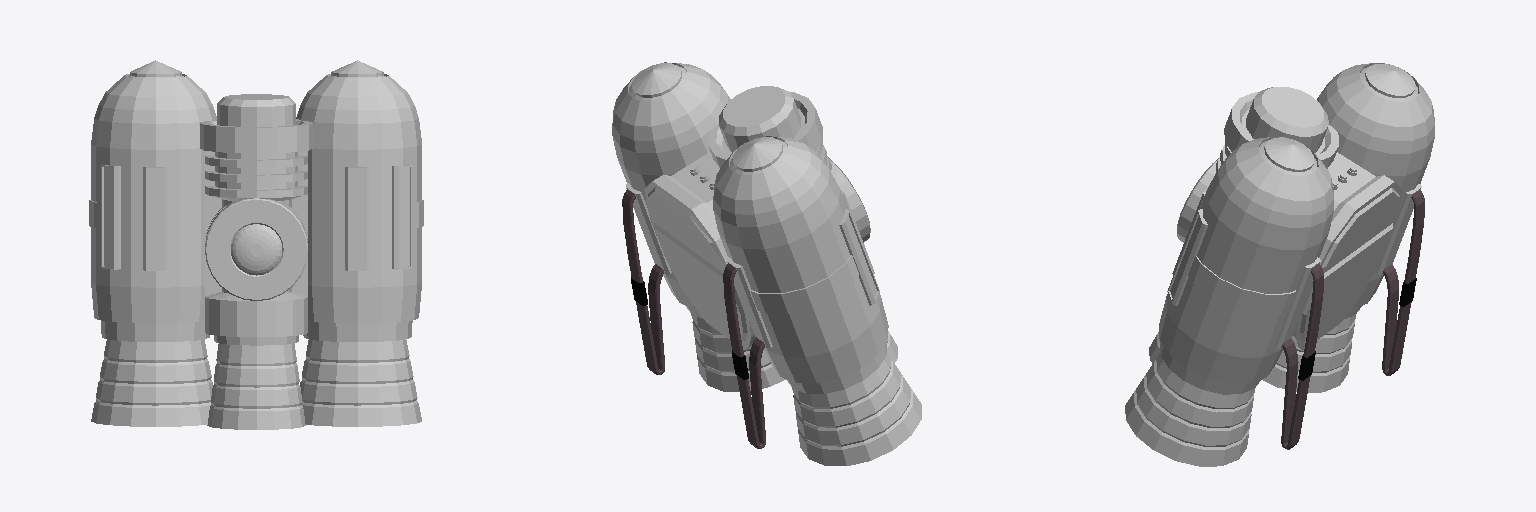
3 views of the same model, side by side, from view 1: azimuth 30°, elevation 25°; view 2: azimuth 150°, elevation 25°; view 3: azimuth 270°, elevation 25° (orthographic).
Parts seen in each view (by area): view 1: 4-T0N_Jetpack_4-T0N_Jetpack_Mesh; view 2: 4-T0N_Jetpack_4-T0N_Jetpack_Mesh; view 3: 4-T0N_Jetpack_4-T0N_Jetpack_Mesh.
Boxes of the visible parts, box(x1,y1,x2,y2) form: 4-T0N_Jetpack_4-T0N_Jetpack_Mesh: box(89, 60, 423, 429); 4-T0N_Jetpack_4-T0N_Jetpack_Mesh: box(612, 62, 921, 465); 4-T0N_Jetpack_4-T0N_Jetpack_Mesh: box(1125, 63, 1434, 466).
Bounding box in the file's own units: 1.69 × 1.75 × 1.5.
2 materials, 1 textured.